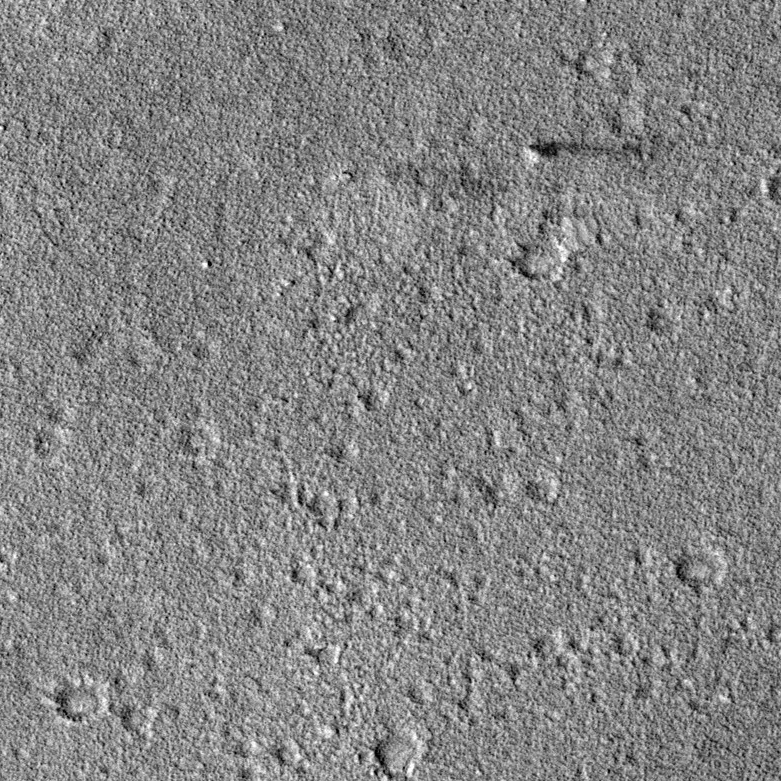dust_devil: (519, 139, 656, 169)
